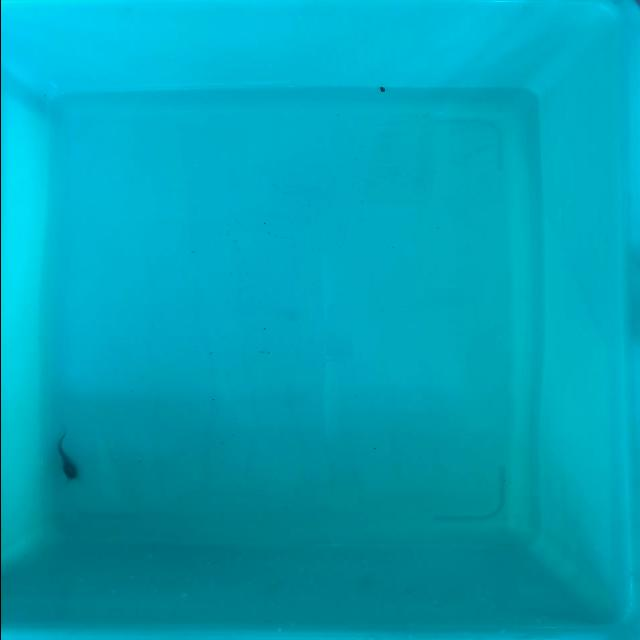lele: (50, 431, 80, 486)
